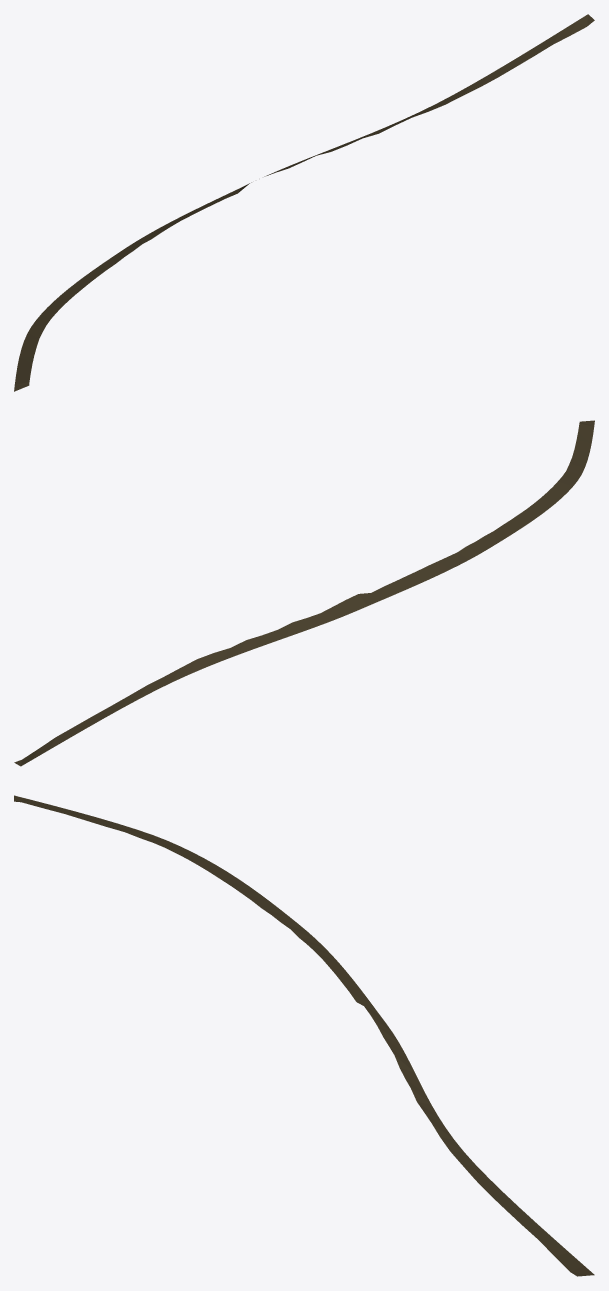
Rendered from 2078_left_gravel_bank.dae.
The picture shows the model from 3 angles, top to bottom: view 1: azimuth 30°, elevation 25°; view 2: azimuth 210°, elevation 25°; view 3: azimuth 270°, elevation 25°; orthographic projection. The views are drawn at different scales.
Parts seen in each view (by area): view 1: Node; view 2: Node; view 3: Node.
Part boxes in pixels (left/top/right/bottom): Node: left=14, top=14, right=594, bottom=391; Node: left=14, top=420, right=594, bottom=766; Node: left=14, top=795, right=594, bottom=1276.
Size of the model in its own units: 50.25 by 24.68 by 1.06.
